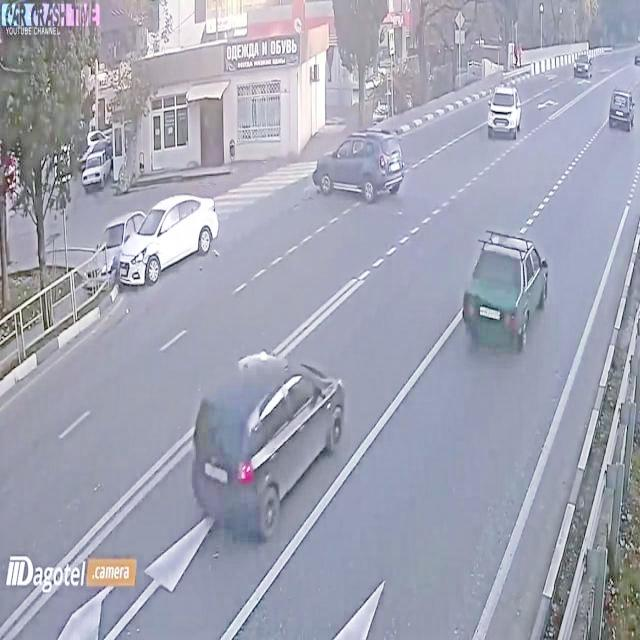Car: (123, 193, 220, 290), (86, 214, 146, 284)
Minor Accident: (95, 195, 221, 288)
